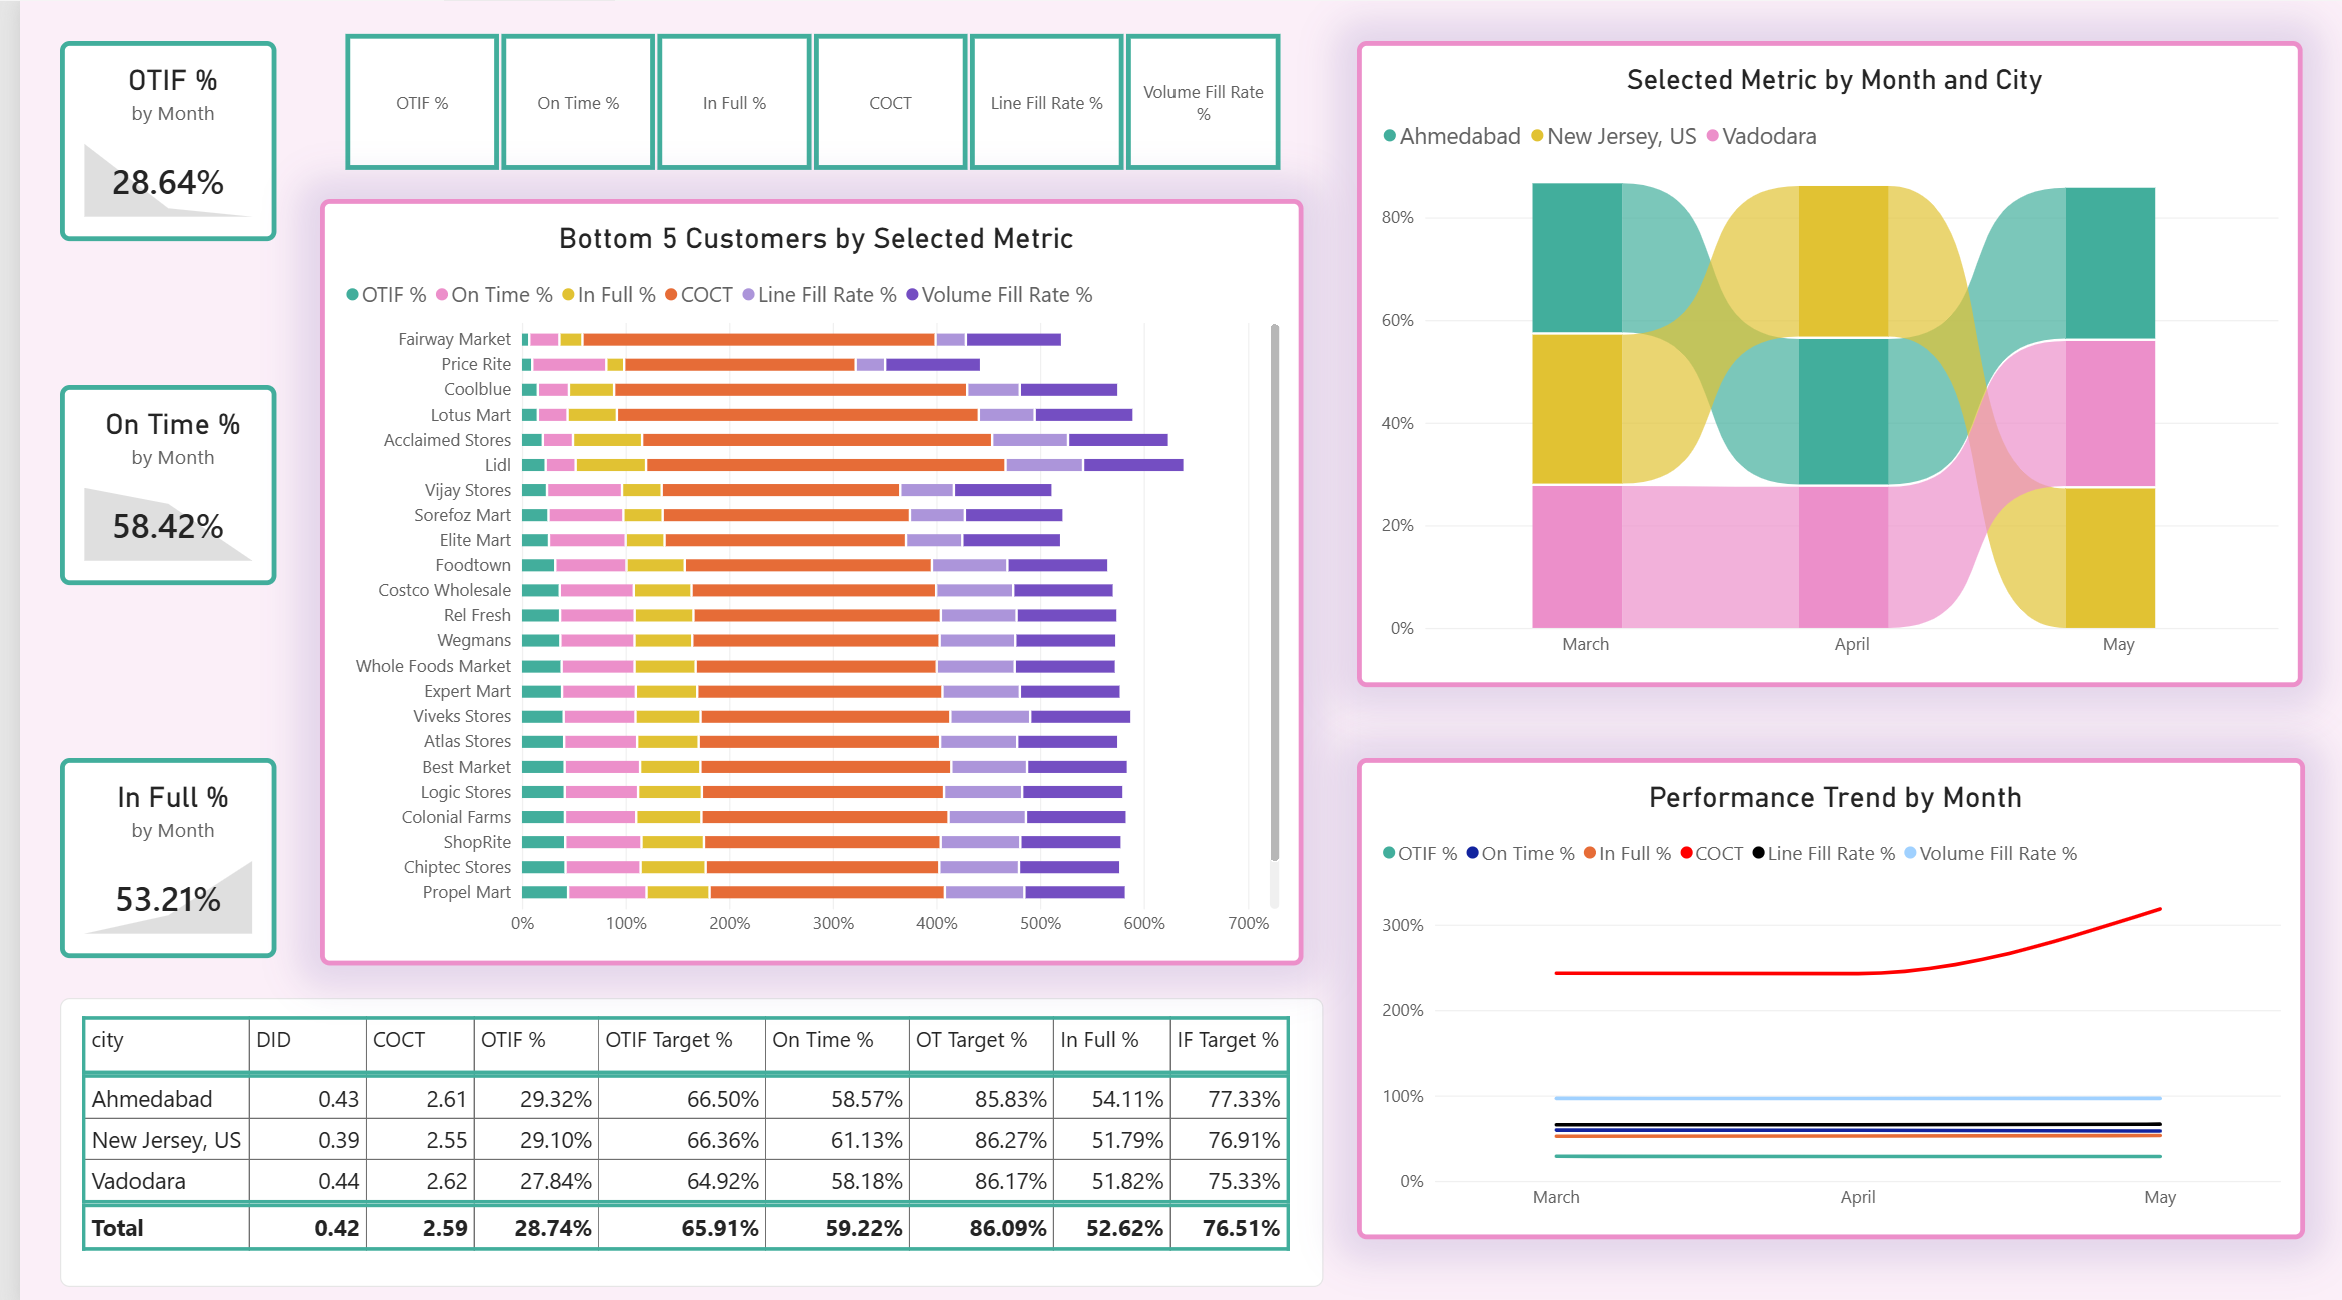

This screenshot's page, from the dashboard's own definition file:
{"tool":"powerbi","page":{"name":"City Performance","canvas":[1920,1080],"ordinal":1},"visuals":[{"type":"kpi","fields":{"Indicator":["Key Measures.OTIF %"],"TrendLine":["dim_date.Month"]},"box":[32.5,32.5,179.1,165.4],"z":0},{"type":"kpi","fields":{"Indicator":["Key Measures.On Time %"],"TrendLine":["dim_date.Month"]},"box":[32.5,317.5,179.1,165.4],"z":1000},{"type":"kpi","fields":{"Indicator":["Key Measures.In Full %"],"TrendLine":["dim_date.Month"]},"box":[32.5,625.3,179.1,165.4],"z":2000},{"type":"tableEx","fields":{"Values":["dim_customers.city","Key Measures.DID","Key Measures.COCT","Key Measures.OTIF %","Key Measures.OTIF Target %","Key Measures.On Time %","Key Measures.OT Target %","Key Measures.In Full %","Key Measures.IF Target %"]},"box":[32.5,824.2,1044.1,239],"z":3000},{"type":"slicer","fields":{"Values":["Metric Selector.Metric Selector"]},"box":[248.6,22.9,812.7,118.6],"z":4000},{"type":"lineChart","title":"Performance Trend by Month","fields":{"Category":["dim_date.Month Name"],"Y":["Key Measures.OTIF %","Key Measures.On Time %","Key Measures.In Full %","Key Measures.COCT","Key Measures.Line Fill Rate %","Key Measures.Volume Fill Rate %"]},"box":[1105.3,625.3,784.1,397.8],"z":5000},{"type":"barChart","title":"Bottom 5 Customers by Selected Metric","fields":{"Category":["dim_customers.customer_name"],"Y":["Key Measures.OTIF %","Key Measures.On Time %","Key Measures.In Full %","Key Measures.COCT","Key Measures.Line Fill Rate %","Key Measures.Volume Fill Rate %"]},"box":[248.6,164.5,812.7,633],"z":6000},{"type":"ribbonChart","title":"Selected Metric by Month and City","fields":{"Category":["dim_date.Month Name"],"Series":["dim_customers.city"],"Y":["Key Measures.OTIF %"]},"box":[1105.3,32.5,782.2,533.5],"z":7000}]}

Visuals, with their boxes in screenshot pixels (x1, y1, x2, y2), scaled from the page's 1920x1080 canvas onto the 2342x1300 screenshot:
kpi - Key Measures.OTIF % x dim_date.Month: region(40, 39, 258, 238)
kpi - Key Measures.On Time % x dim_date.Month: region(40, 382, 258, 581)
kpi - Key Measures.In Full % x dim_date.Month: region(40, 753, 258, 952)
tableEx - dim_customers.city x Key Measures.DID: region(40, 992, 1313, 1280)
slicer - Metric Selector.Metric Selector: region(303, 28, 1295, 170)
"Performance Trend by Month" lineChart: region(1348, 753, 2305, 1232)
"Bottom 5 Customers by Selected Metric" barChart: region(303, 198, 1295, 960)
"Selected Metric by Month and City" ribbonChart: region(1348, 39, 2302, 681)
